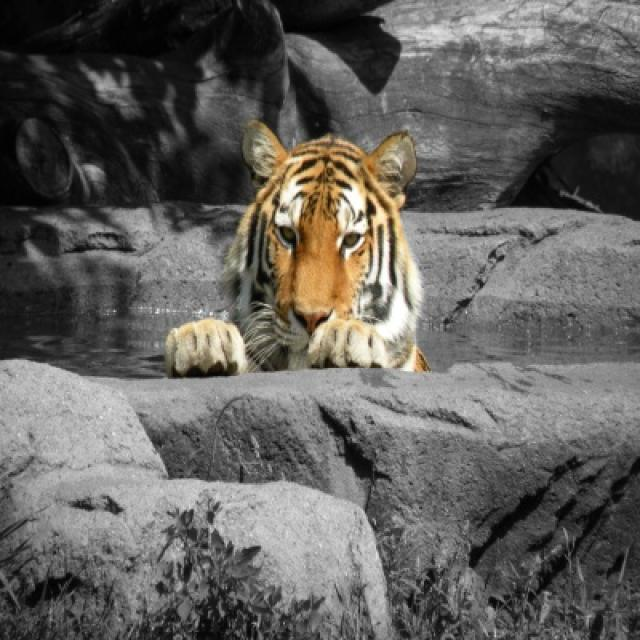Tiger: (169, 123, 427, 376)
